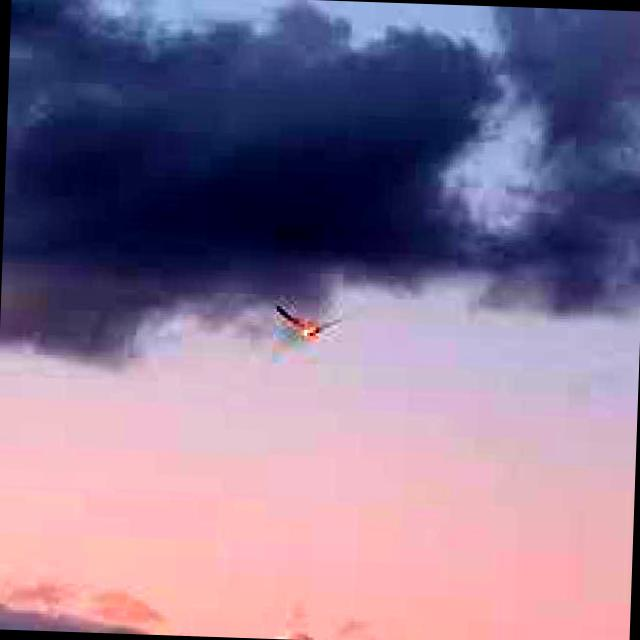bird: (270, 298, 338, 344)
